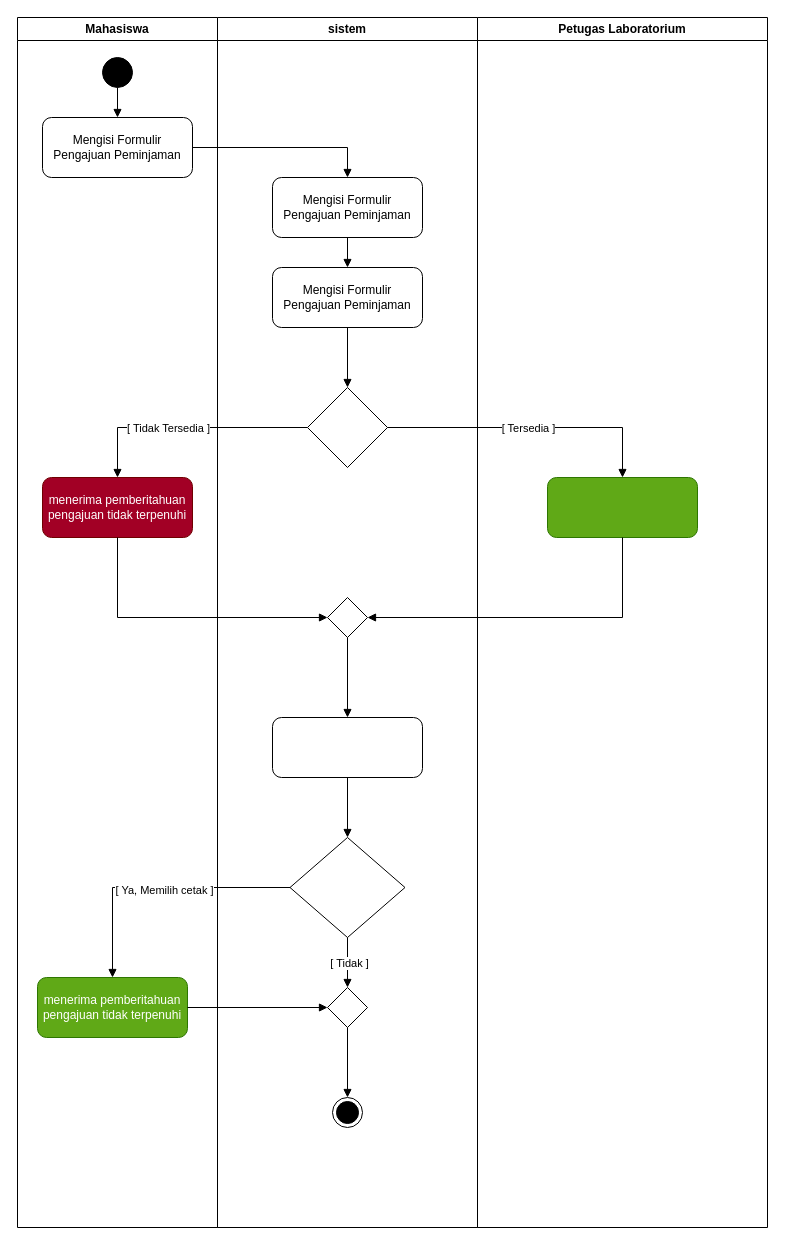
Some shapes in this 785 by 1245 pixel diagram are drawn without their labels. The shapes that lost their labels are listed below. From the top down, each one's centre as x and y in pixels, then its label:
At (347,427): "peralatan tersedia".
At (622,507): "memproses keputusan peminjaman".
At (347,747): "mencatat hasil akhir pengajuan".
At (347,887): "mahasiswa memilih cetak bukti ?".
